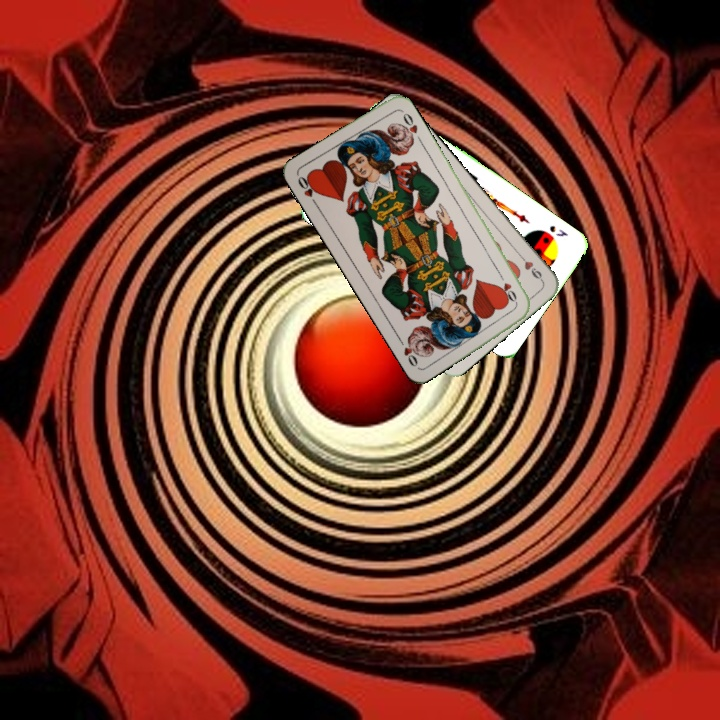H9: (515, 251, 546, 285)
HO: (293, 172, 321, 209), (495, 269, 520, 306)
SK: (545, 221, 571, 239)
